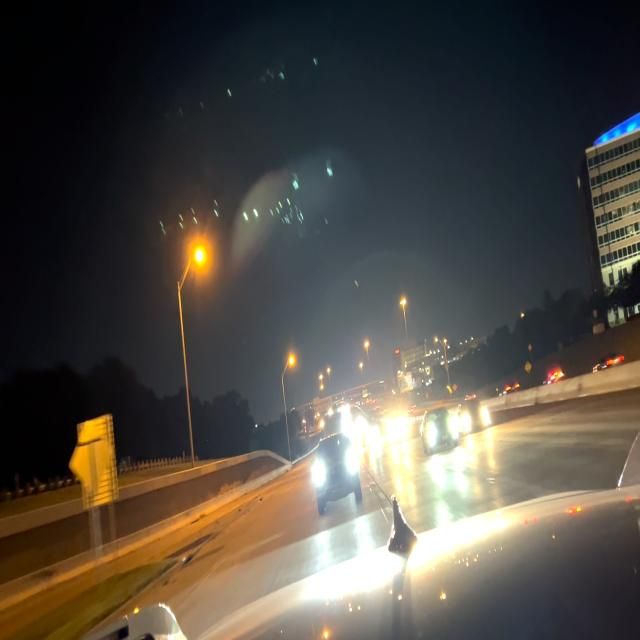back-of-sign: (80, 415, 118, 506), (69, 425, 111, 501)
